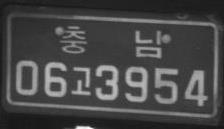0: (15, 58, 39, 96)
3: (95, 63, 119, 101)
4: (184, 69, 208, 106)
5: (153, 67, 179, 104)
6: (44, 61, 66, 98)
9: (123, 65, 148, 102)
고: (71, 65, 92, 96)
충남_D: (60, 25, 164, 59)
